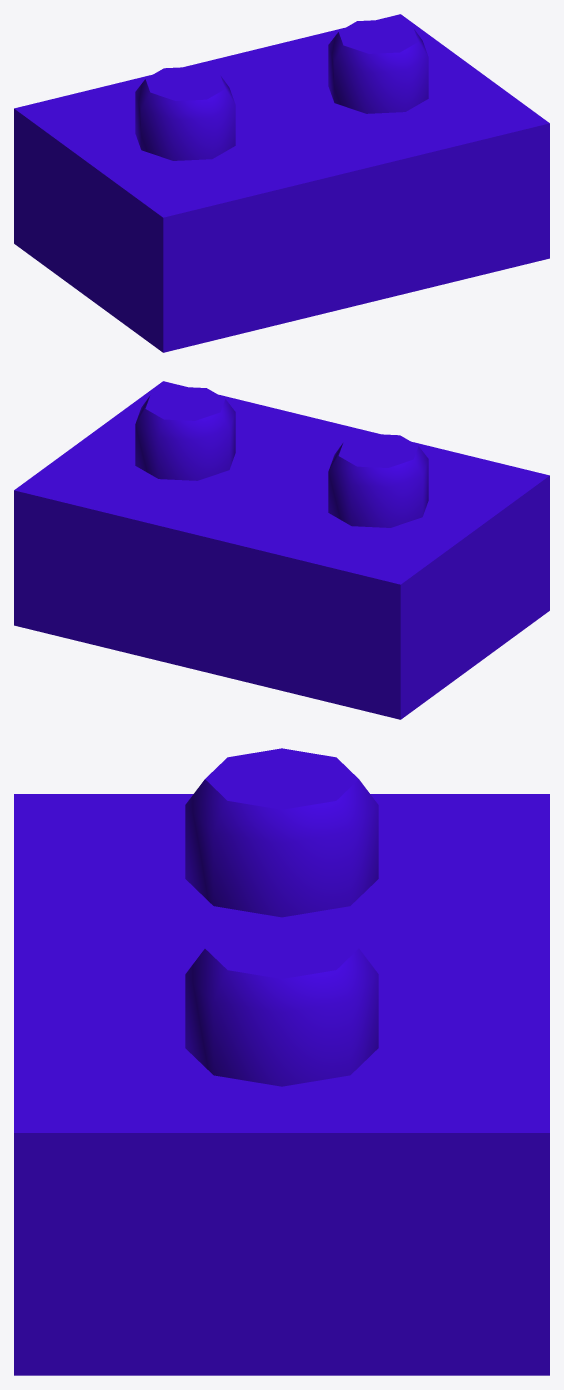
The model's file is Bloco3.fbx.
3 renders of one model, top to bottom at view 1: azimuth 30°, elevation 25°; view 2: azimuth 150°, elevation 25°; view 3: azimuth 270°, elevation 25°, orthographic. The views are drawn at different scales.
Parts seen in each view (by area): view 1: Model3; view 2: Model3; view 3: Model3.
Boxes of the visible parts, x1=… form: Model3: x1=14, y1=14, x2=549, y2=352; Model3: x1=14, y1=381, x2=549, y2=719; Model3: x1=14, y1=748, x2=549, y2=1375.
Size of the model in its own units: 2.99 by 2 by 1.41.
